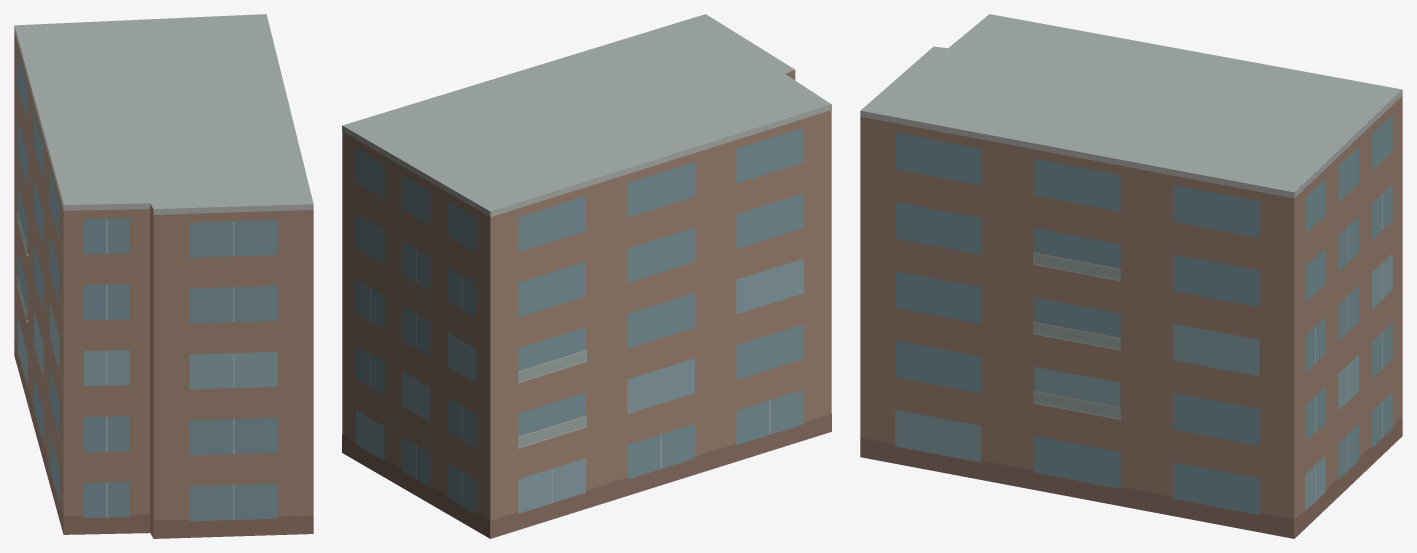
File: survey-upis-32955125.glb
3 renders of one model, left to right at view 1: azimuth 30°, elevation 25°; view 2: azimuth 150°, elevation 25°; view 3: azimuth 270°, elevation 25°, orthographic. The views are drawn at different scales.
Parts seen in each view (by area): view 1: survey-upis-32955125.tmp; view 2: survey-upis-32955125.tmp; view 3: survey-upis-32955125.tmp.
Part boxes in pixels (x1,y1,x2,y2): survey-upis-32955125.tmp: (14,14,313,538); survey-upis-32955125.tmp: (342,14,831,538); survey-upis-32955125.tmp: (860,14,1402,538).
Bounding box in the file's own units: 15.58 × 14.1 × 20.02.
